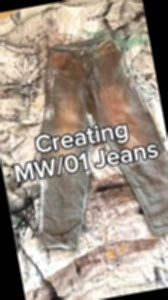earth: (46, 69, 87, 132), (95, 58, 128, 126)
